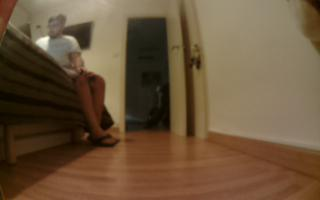person: (33, 13, 122, 150)
